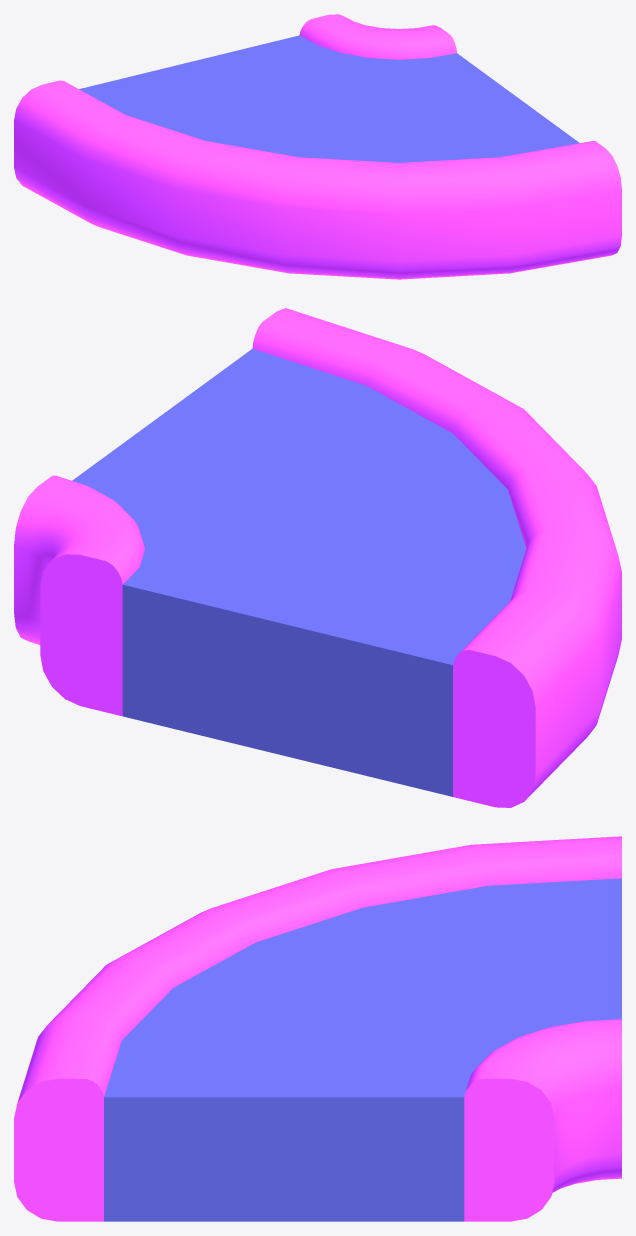
Rendered from conveyor_corner_pink.fbx.
3 renders of one model, top to bottom at view 1: azimuth 30°, elevation 25°; view 2: azimuth 150°, elevation 25°; view 3: azimuth 270°, elevation 25°, orthographic. The views are drawn at different scales.
Visible parts, largest first — view 1: Cube.063; view 2: Cube.063; view 3: Cube.063.
Part boxes in pixels (left/top/right/bottom): Cube.063: left=14, top=14, right=621, bottom=279; Cube.063: left=14, top=308, right=621, bottom=807; Cube.063: left=14, top=836, right=621, bottom=1221.
Bounding box in the file's own units: 270 × 70 × 270.
